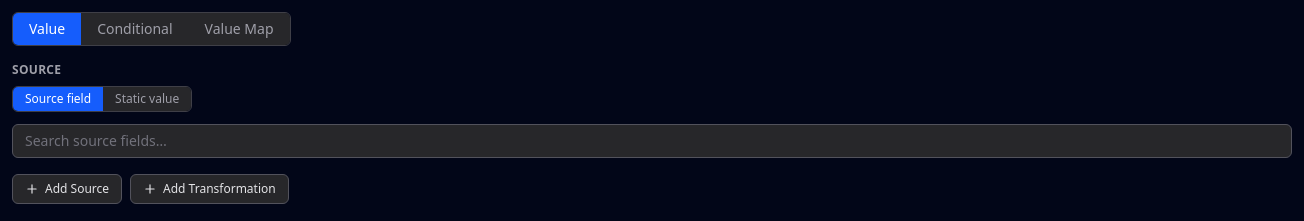
Scenario: UnifiedExpressionBuilder — static value toggle (T-06) › clicking "Static value" segment shows static value input
Step 1. Click the tab with test id "input-type-static" → (147, 99), box [103,87,191,111]
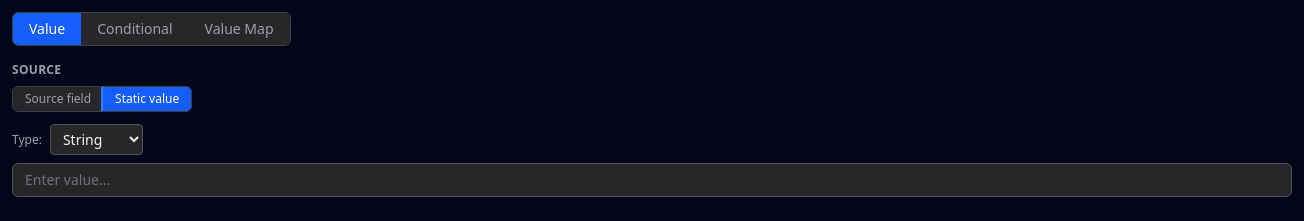
Expected: the element with test id "static-value-input" is shown, [12,124,1292,197]
Expected: the dropdown with test id "source-search-input" is gone
